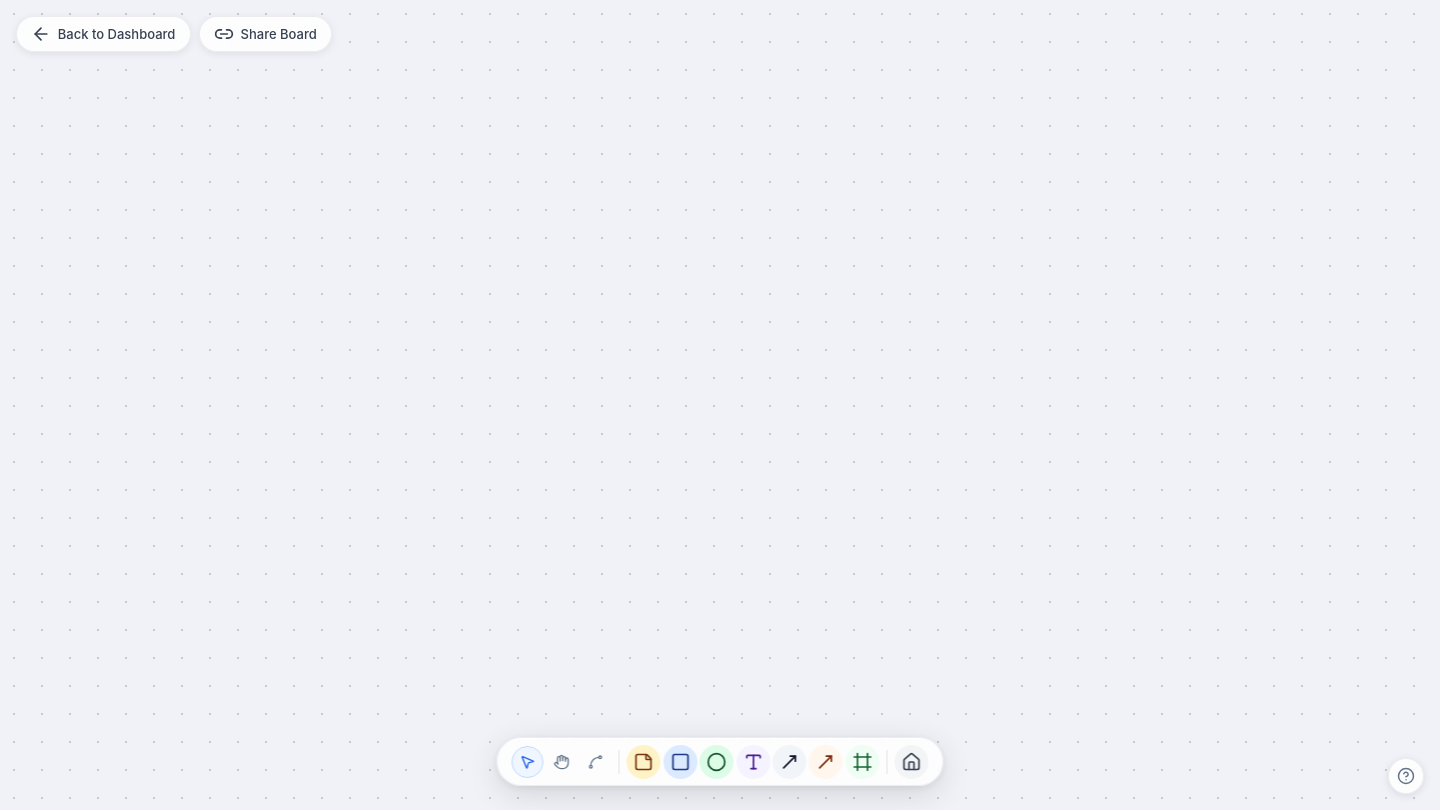
Test: Whiteboard — frames › adds a frame when clicking the Frame toolbar button
This screenshot has width=1440, height=810.
Step 1. Click the button named "Frame" → (862, 762), box [845, 745, 879, 779]
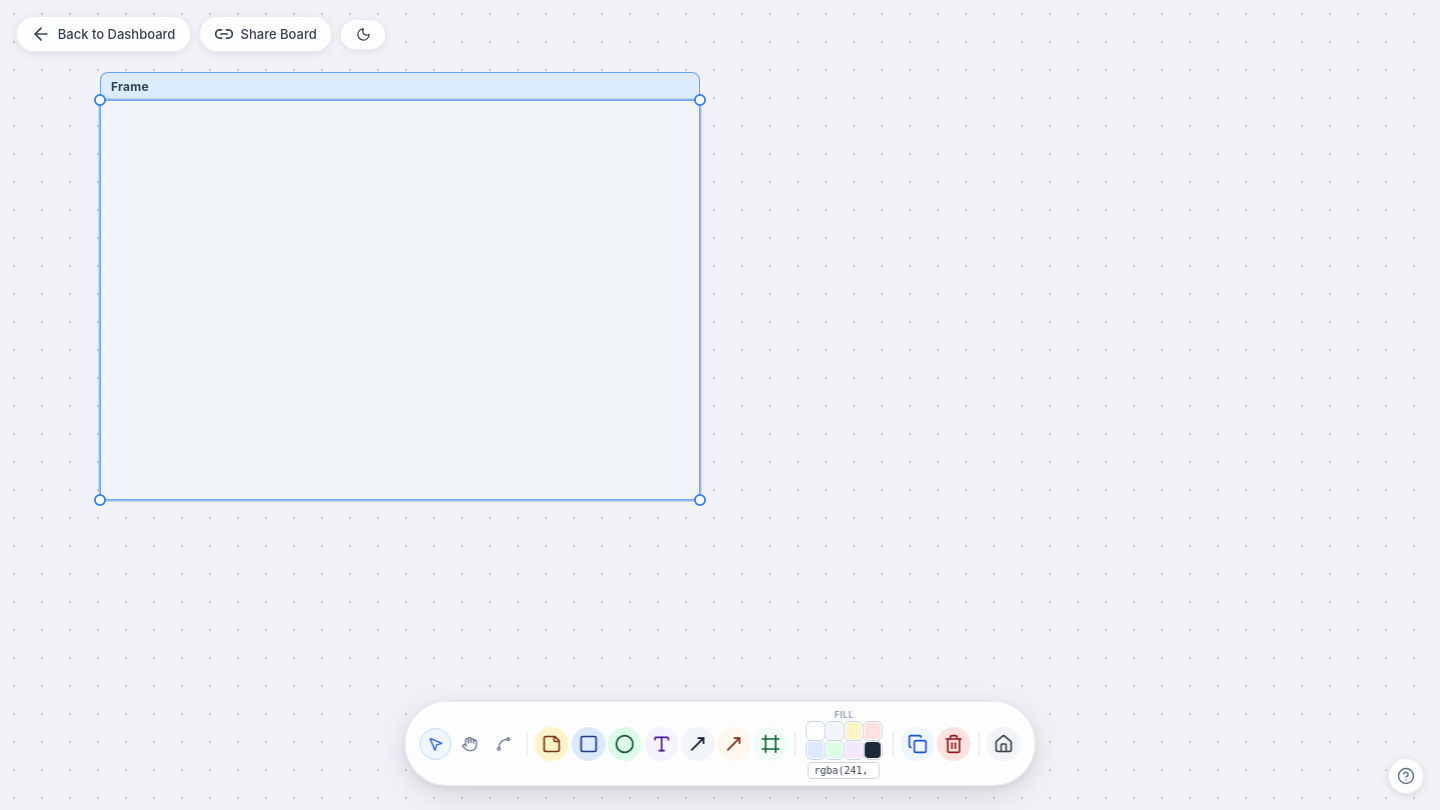
Check: the text "Frame" is shown, box [111, 79, 149, 94]
